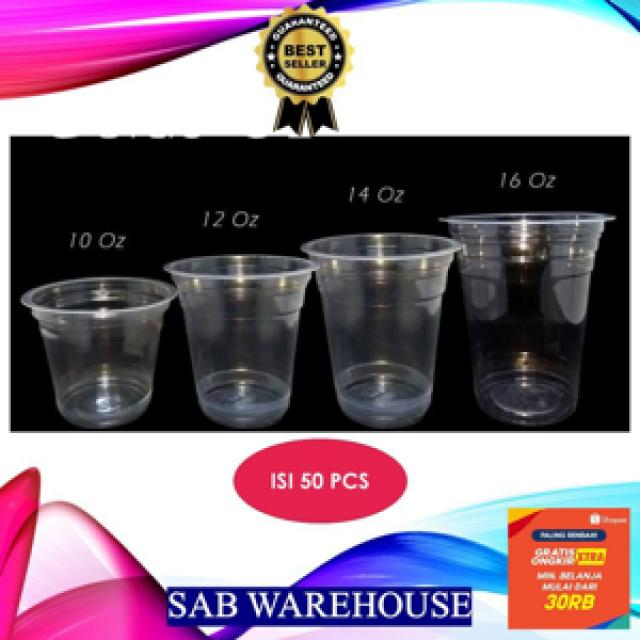plastic cup: (438, 200, 616, 422), (303, 224, 465, 431), (166, 247, 318, 429), (20, 266, 182, 428)
